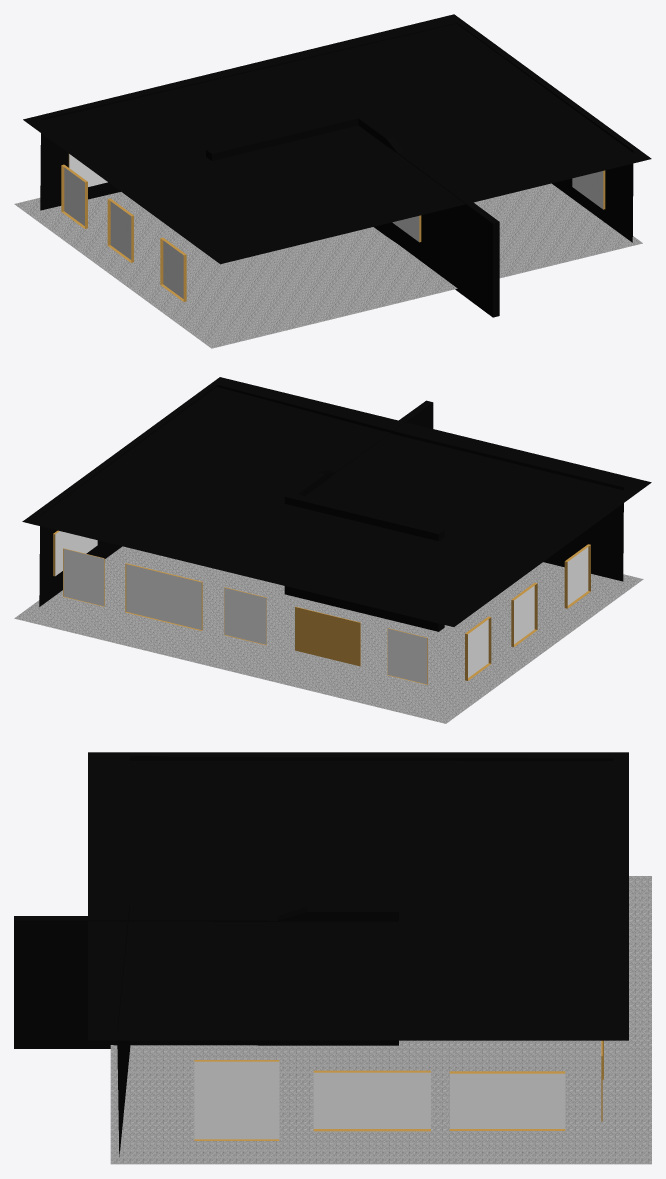
Rendered from gallery2.glb.
3 views of the same model, one above another, from view 1: azimuth 30°, elevation 25°; view 2: azimuth 150°, elevation 25°; view 3: azimuth 270°, elevation 25° (orthographic). The views are drawn at different scales.
Parts seen in each view (by area): view 1: Plane, Plane.001, Plane.002, draw14, draw13, draw15, draw8, paint13, draw1; view 2: Plane, Plane.001, Plane.002, draw4, paint2, draw3, draw5, draw1, draw13, draw14, draw15, draw6; view 3: Plane, Plane.001, Plane.002, draw8, draw7, draw6, paint7.
Boxes of the visible parts, bbox=[...] form: Plane: bbox=[23, 14, 651, 264]; Plane.001: bbox=[14, 183, 642, 348]; Plane.002: bbox=[40, 23, 633, 317]; draw14: bbox=[110, 201, 131, 259]; draw13: bbox=[163, 240, 183, 298]; draw15: bbox=[64, 167, 84, 225]; draw8: bbox=[572, 171, 603, 209]; paint13: bbox=[160, 237, 186, 301]; draw1: bbox=[69, 154, 107, 186]; Plane: bbox=[22, 377, 651, 626]; Plane.001: bbox=[14, 546, 643, 723]; Plane.002: bbox=[39, 385, 623, 631]; draw4: bbox=[126, 564, 201, 629]; paint2: bbox=[295, 606, 360, 666]; draw3: bbox=[224, 588, 266, 644]; draw5: bbox=[63, 549, 103, 606]; draw1: bbox=[388, 628, 427, 684]; draw13: bbox=[567, 547, 588, 605]; draw14: bbox=[514, 586, 534, 644]; draw15: bbox=[468, 619, 488, 677]; draw6: bbox=[55, 531, 97, 575]; Plane: bbox=[88, 752, 628, 1040]; Plane.001: bbox=[110, 876, 651, 1164]; Plane.002: bbox=[14, 756, 613, 1156]; draw8: bbox=[194, 1061, 279, 1139]; draw7: bbox=[313, 1072, 430, 1128]; draw6: bbox=[449, 1073, 565, 1128]; paint7: bbox=[313, 1070, 430, 1131].
Size of the model in its own units: 29.36 by 7.17 by 27.44.
20 materials, 1 textured.
